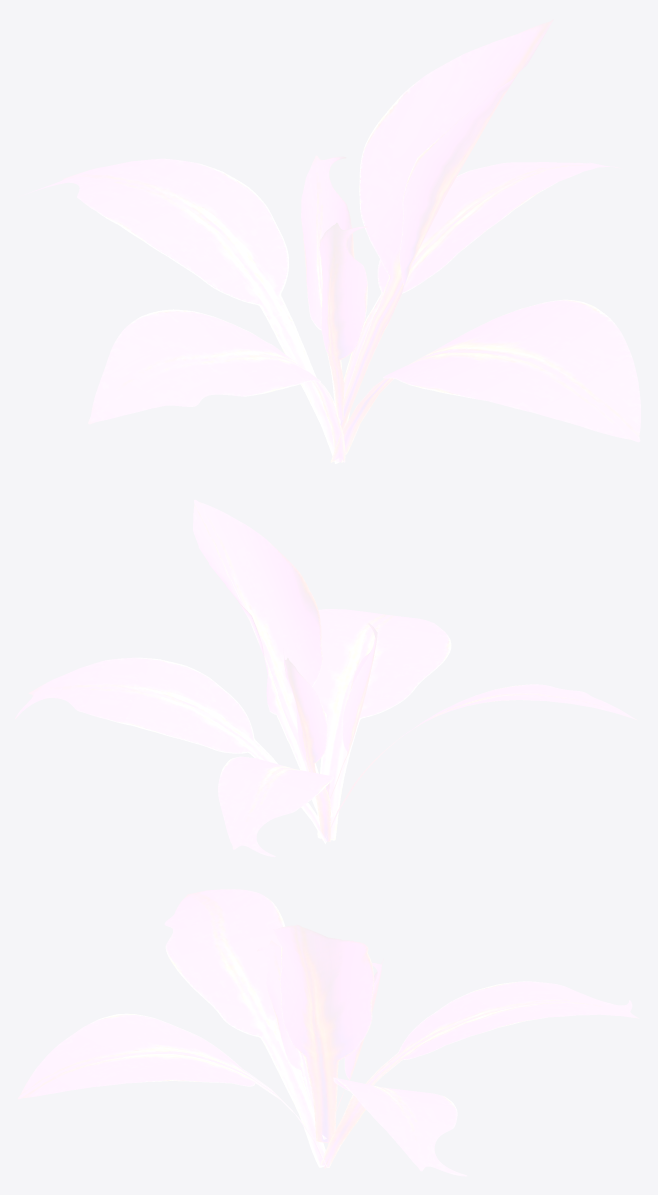
3 renders of one model, top to bottom at view 1: azimuth 30°, elevation 25°; view 2: azimuth 150°, elevation 25°; view 3: azimuth 270°, elevation 25°, orthographic. The views are drawn at different scales.
Visible parts, largest first — view 1: SM_GF_Sm_Plant_02_LOD0; view 2: SM_GF_Sm_Plant_02_LOD0; view 3: SM_GF_Sm_Plant_02_LOD0.
Part boxes in pixels (box(x1,y1,x2,y2)): SM_GF_Sm_Plant_02_LOD0: box(19, 19, 640, 463); SM_GF_Sm_Plant_02_LOD0: box(15, 499, 637, 857); SM_GF_Sm_Plant_02_LOD0: box(17, 889, 639, 1176).
Size of the model in its own units: 1.24 by 0.7015 by 1.24.
1 material, 1 textured.
